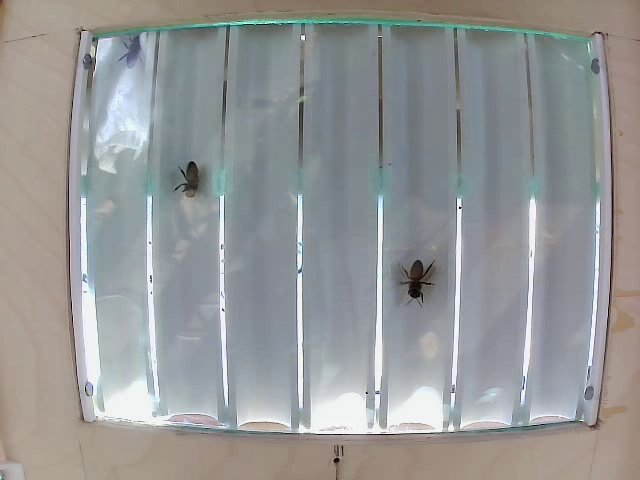bee: (400, 251, 440, 312), (172, 155, 209, 201), (116, 30, 141, 76)
